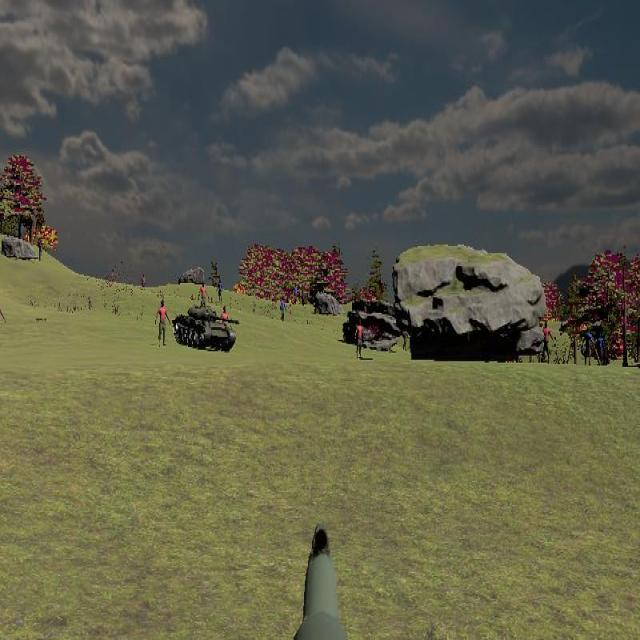Human: (154, 298, 171, 348), (541, 321, 555, 367), (354, 318, 366, 359), (354, 318, 365, 359), (0, 287, 6, 361)
Tank: (173, 305, 240, 352)
